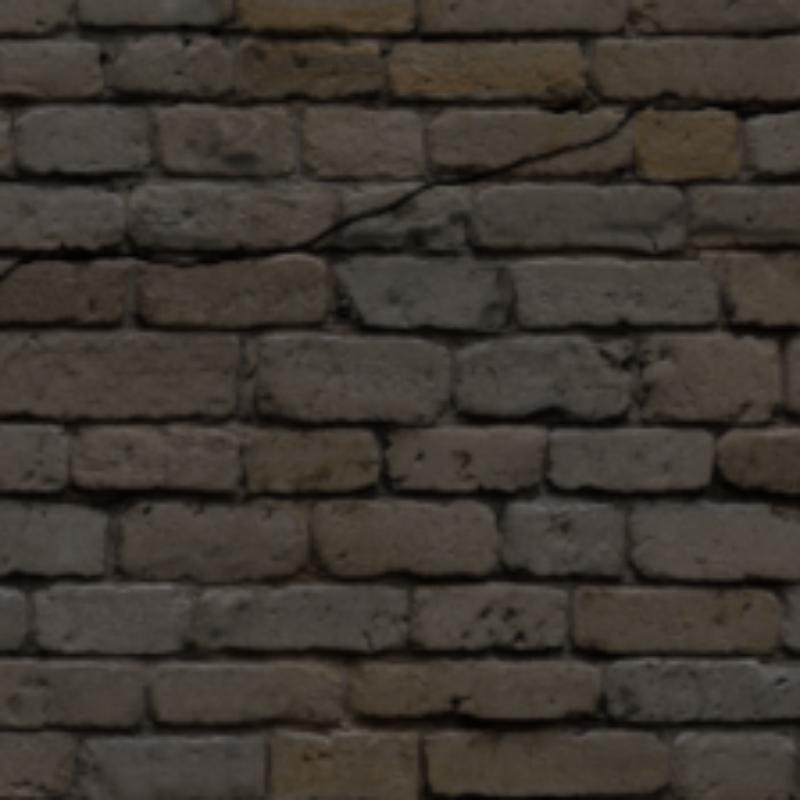pothole: (14, 104, 714, 264), (714, 104, 796, 114)
